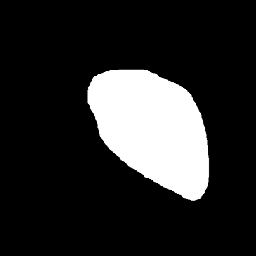mass: (81, 67, 185, 193)
